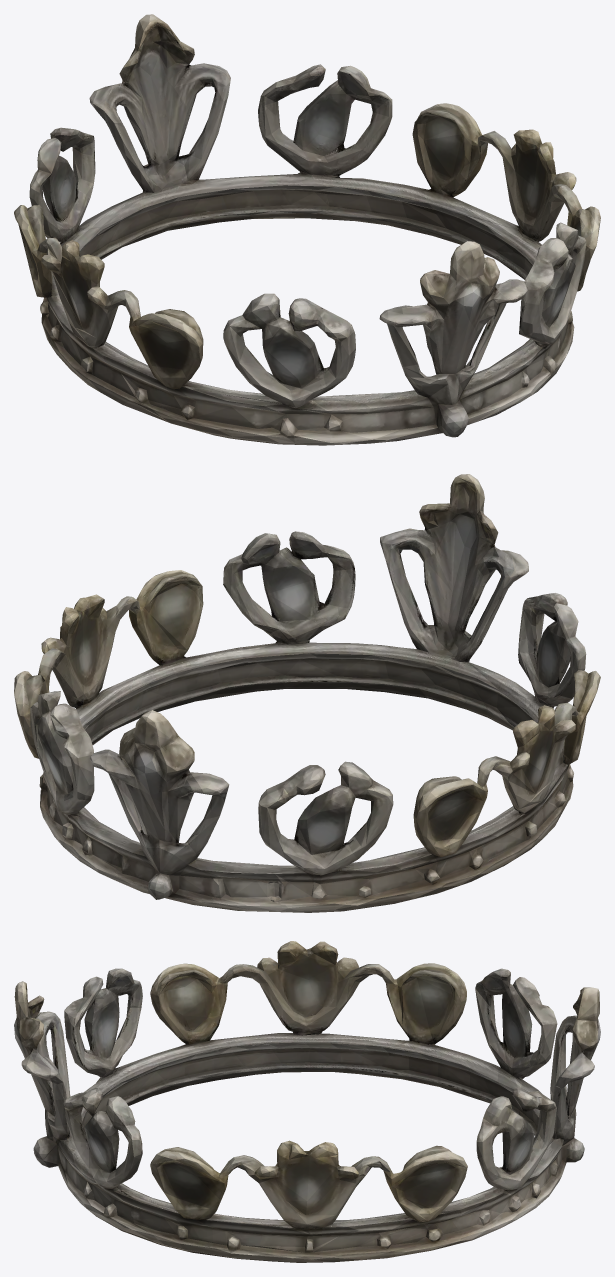
Rendered from floral-crown.glb.
3 views of the same model, one above another, from view 1: azimuth 30°, elevation 25°; view 2: azimuth 150°, elevation 25°; view 3: azimuth 270°, elevation 25° (orthographic). The views are drawn at different scales.
Parts seen in each view (by area): view 1: world; view 2: world; view 3: world.
Boxes of the visible parts, box(x1,y1,x2,y2) form: world: box(14, 14, 600, 445); world: box(14, 474, 600, 912); world: box(14, 941, 600, 1262).
Bounding box in the file's own units: 0.8537 × 0.3497 × 0.9975.
Materials: 1 (1 with a texture image).
